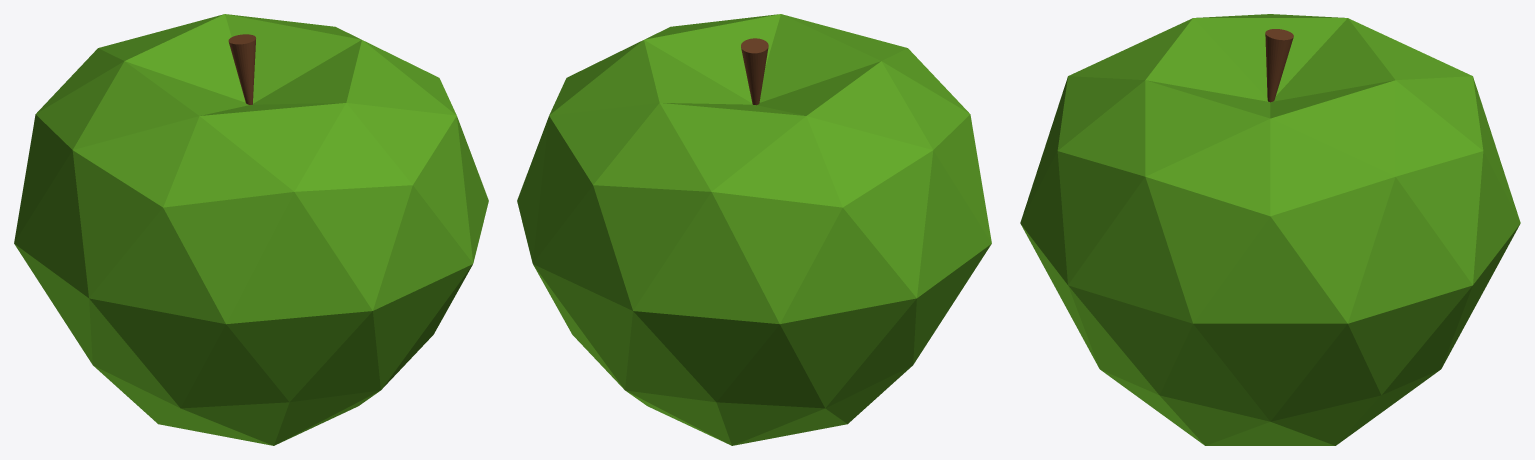
Rendered from AppleGreen.fbx.
The picture shows the model from 3 angles, left to right: view 1: azimuth 30°, elevation 25°; view 2: azimuth 150°, elevation 25°; view 3: azimuth 270°, elevation 25°; orthographic projection. The views are drawn at different scales.
Visible parts, largest first — view 1: Icosphere, Cone; view 2: Icosphere, Cone; view 3: Icosphere, Cone.
Part boxes in pixels (box(x1,y1,x2,y2)): Icosphere: box(14, 14, 488, 445); Cone: box(228, 34, 255, 104); Icosphere: box(517, 14, 991, 445); Cone: box(741, 38, 768, 105); Icosphere: box(1020, 14, 1520, 445); Cone: box(1265, 29, 1293, 102).
Size of the model in its own units: 19.47 by 16.82 by 20.47.
